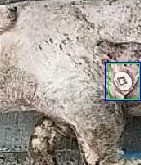text: (108, 63, 139, 99)
